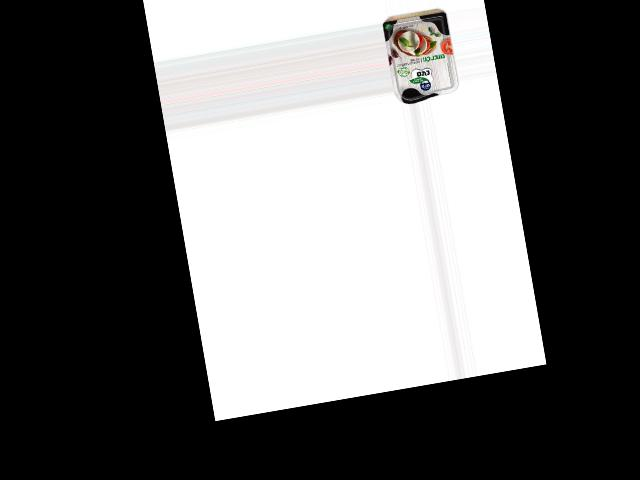cheese: (382, 10, 461, 104)
